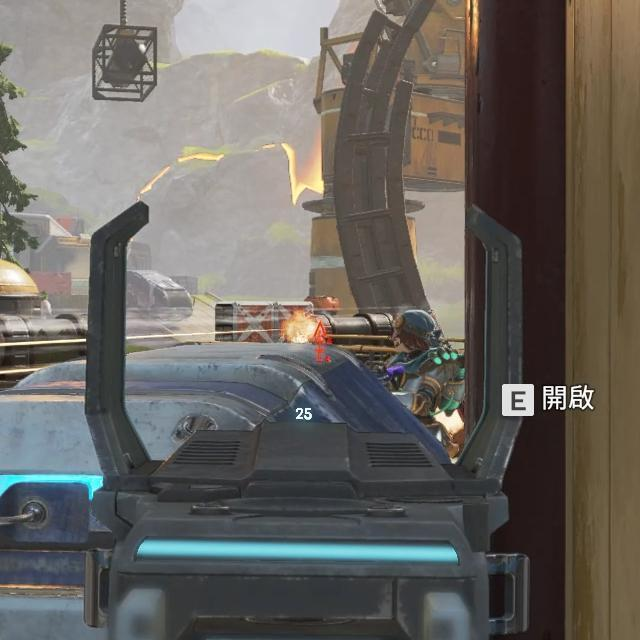avatar: (388, 306, 465, 437)
